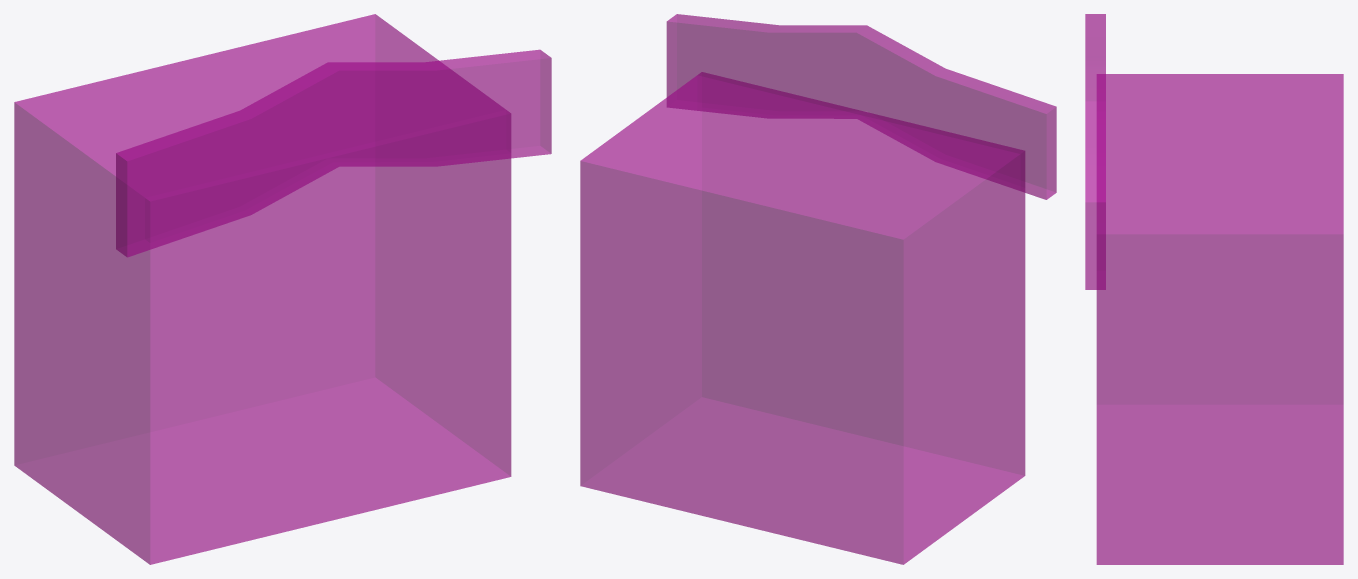
Rendered from SM_Prop_Can_Toss_01_Collision.fbx.
The picture shows the model from 3 angles, left to right: view 1: azimuth 30°, elevation 25°; view 2: azimuth 150°, elevation 25°; view 3: azimuth 270°, elevation 25°; orthographic projection. The views are drawn at different scales.
Parts seen in each view (by area): view 1: SM_Prop_Can_Toss_01_Collision; view 2: SM_Prop_Can_Toss_01_Collision; view 3: SM_Prop_Can_Toss_01_Collision.
Part boxes in pixels (bbox=[...]): SM_Prop_Can_Toss_01_Collision: bbox=[14, 14, 551, 564]; SM_Prop_Can_Toss_01_Collision: bbox=[580, 14, 1056, 564]; SM_Prop_Can_Toss_01_Collision: bbox=[1085, 14, 1343, 564].
Size of the model in its own units: 238 by 244 by 138.
